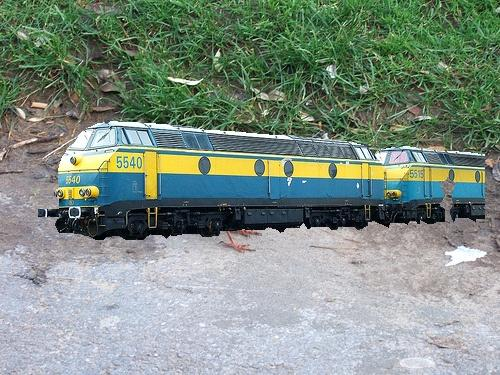tampered: (39, 122, 485, 240)
